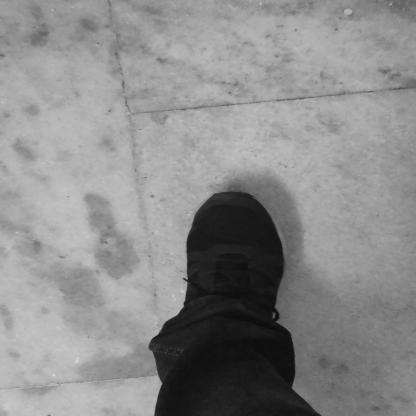ankle: (207, 305, 212, 310)
heel: (185, 318, 188, 323)
pinky: (259, 212, 265, 216)
right_foot: (180, 192, 285, 334)
toe: (199, 210, 206, 214)
